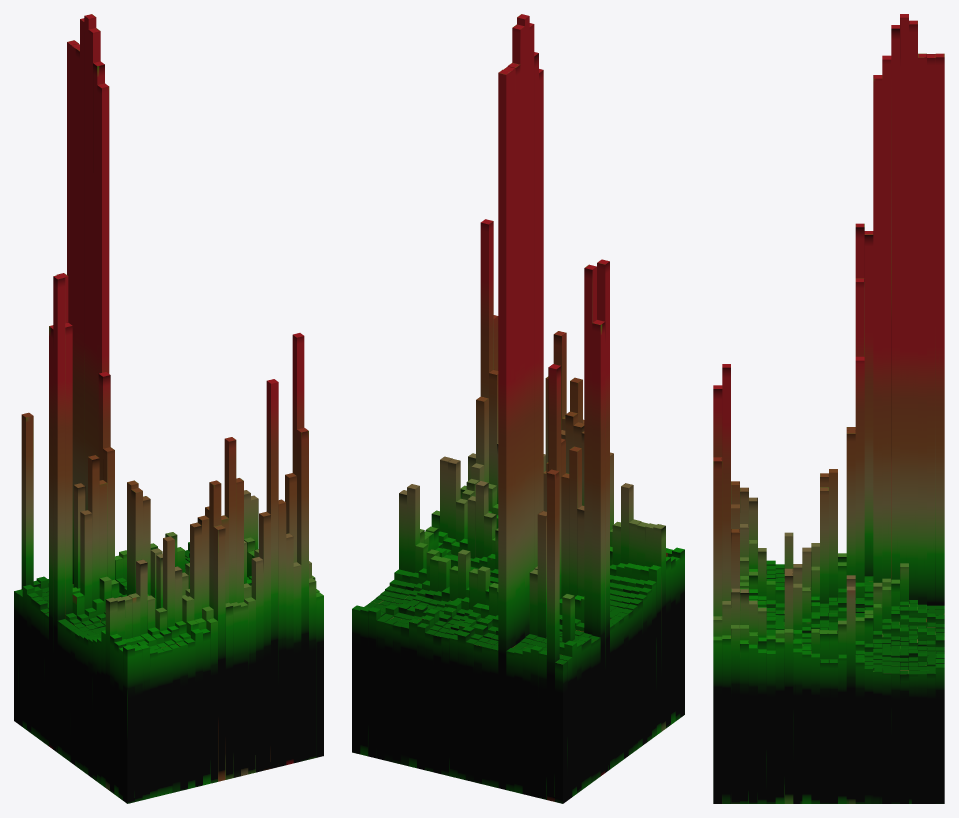
Rendered from TQ3280SE_PM_NOx.gltf.
The picture shows the model from 3 angles, left to right: view 1: azimuth 30°, elevation 25°; view 2: azimuth 150°, elevation 25°; view 3: azimuth 270°, elevation 25°; orthographic projection. The views are drawn at different scales.
Parts seen in each view (by area): view 1: Cube.678; view 2: Cube.678; view 3: Cube.678.
Part boxes in pixels (left/top/right/bottom): Cube.678: left=14, top=14, right=323, bottom=803; Cube.678: left=352, top=14, right=684, bottom=803; Cube.678: left=713, top=14, right=944, bottom=803.
Bounding box in the file's own units: 52 × 178 × 52.
3 materials, 2 textured.
